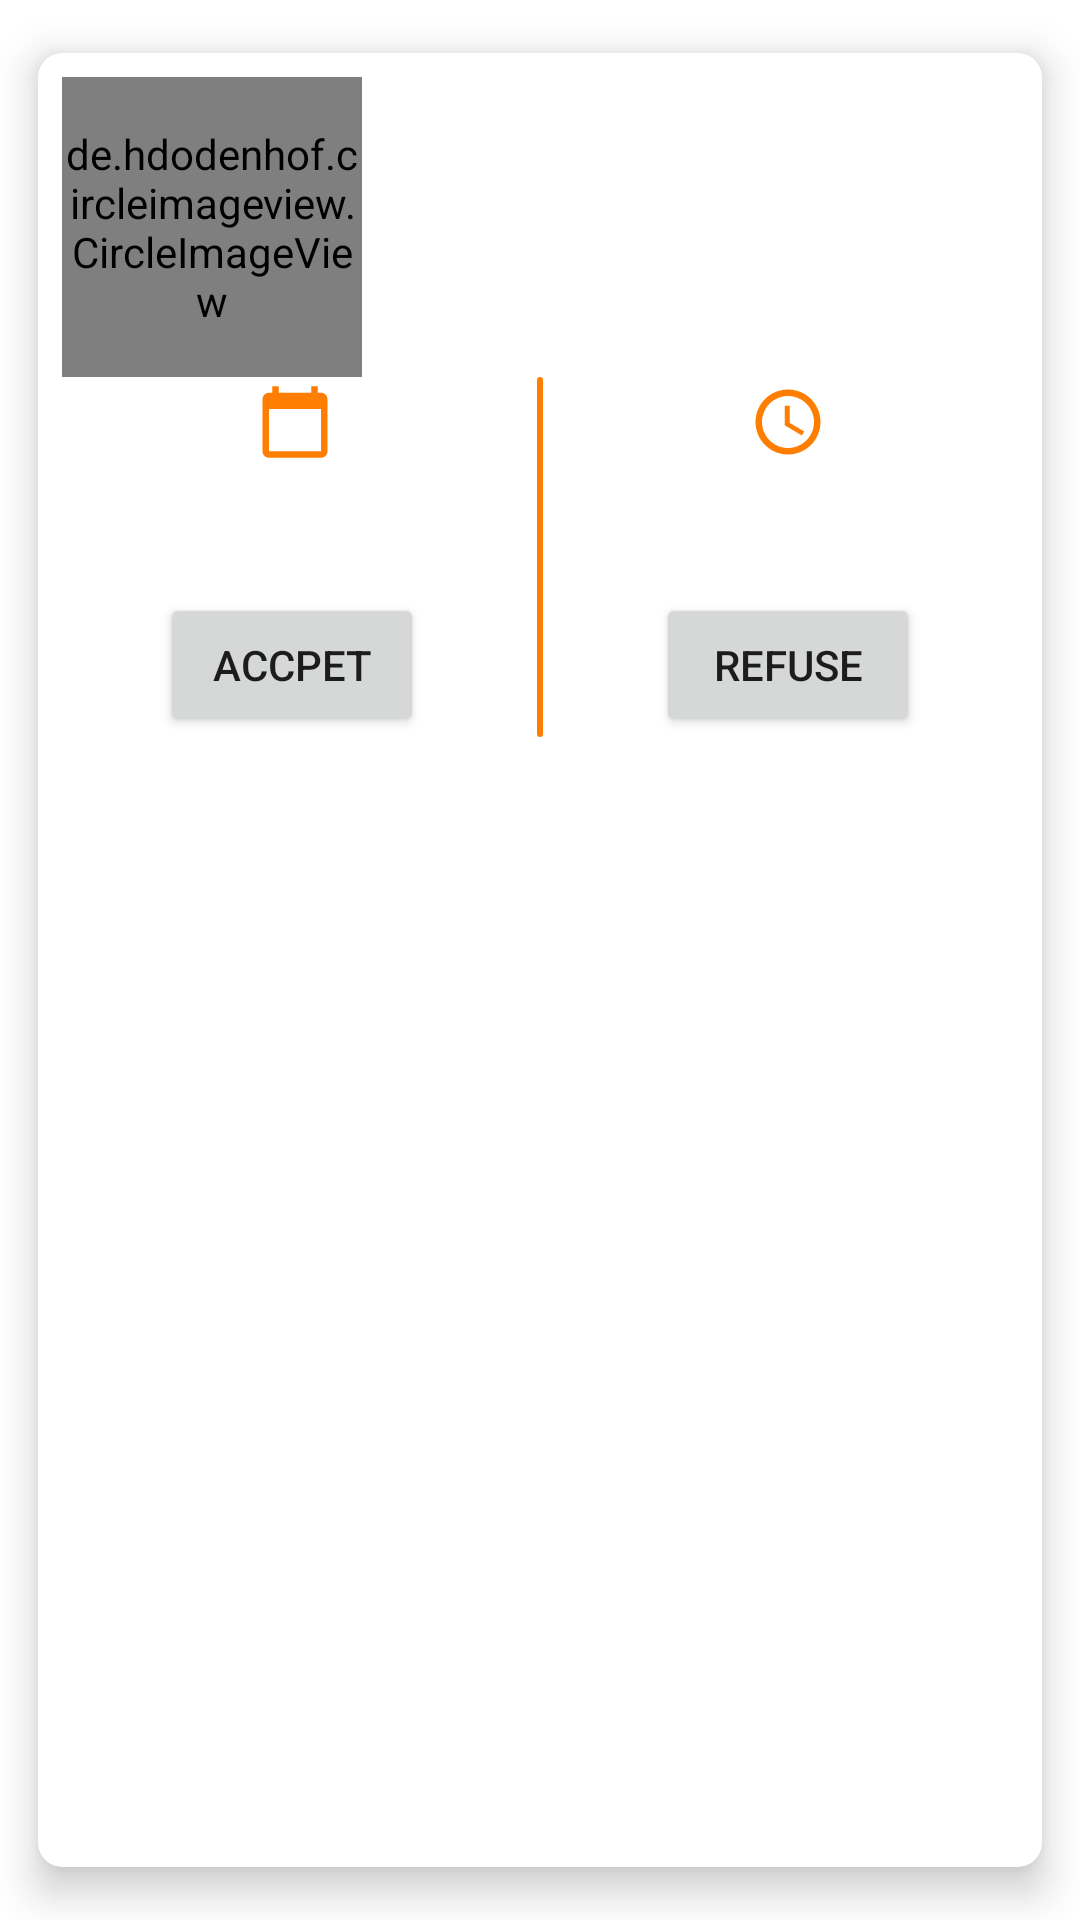

Point at icon controls on the screen. Image size 1080w x 1920h, points as (x,y).
access time: (788,422)
calendar today: (295,422)
